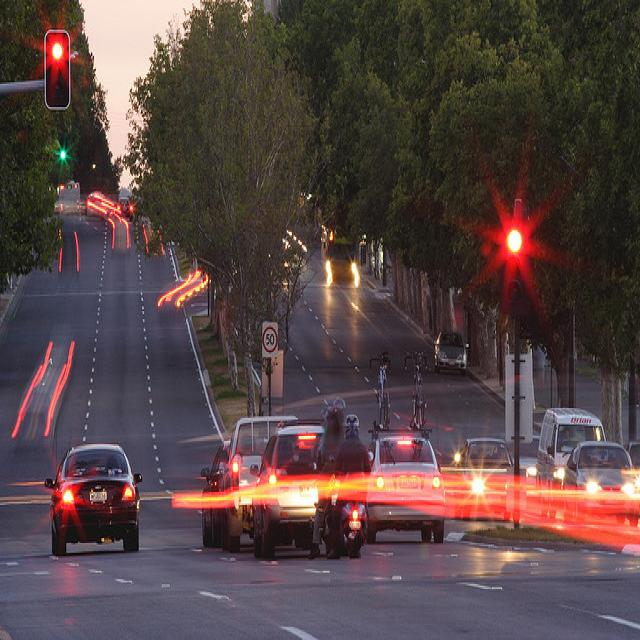motor: (339, 491, 371, 555), (316, 487, 341, 558)
